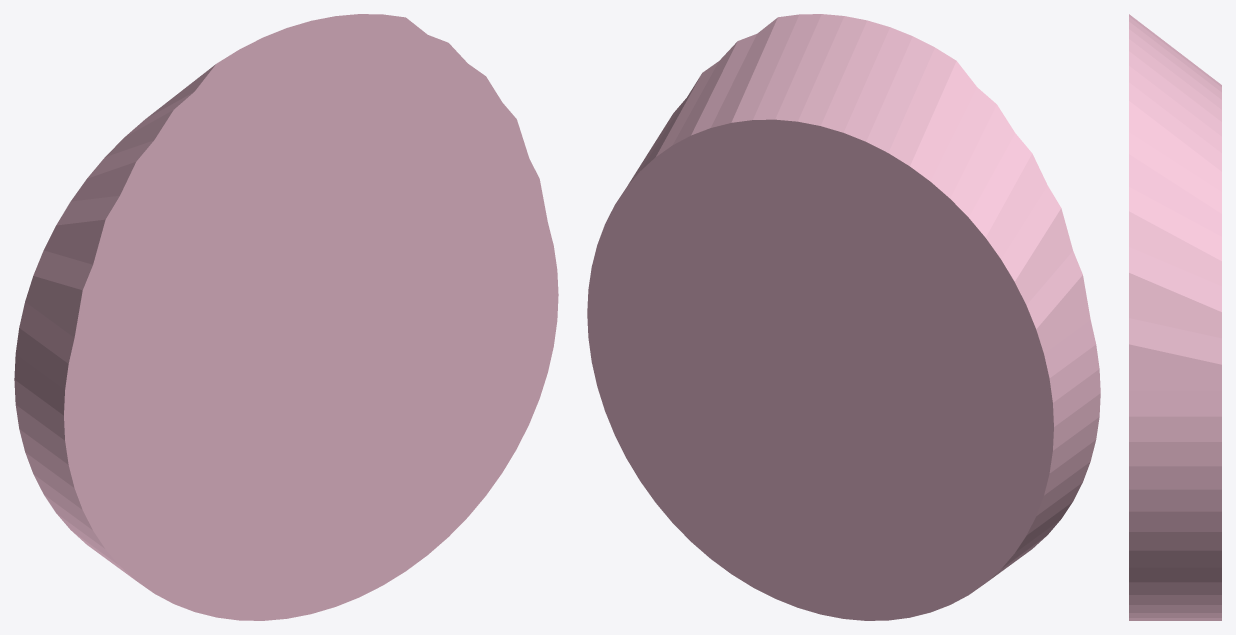
File: head_02.glb
3 views of the same model, side by side, from view 1: azimuth 30°, elevation 25°; view 2: azimuth 150°, elevation 25°; view 3: azimuth 270°, elevation 25° (orthographic). The views are drawn at different scales.
Parts seen in each view (by area): view 1: head_02; view 2: head_02; view 3: head_02.
Boxes of the visible parts, bbox=[...] form: head_02: bbox=[14, 14, 558, 620]; head_02: bbox=[587, 14, 1100, 620]; head_02: bbox=[1129, 14, 1221, 620].
Bounding box in the file's own units: 2.23 × 2.55 × 0.3857.
